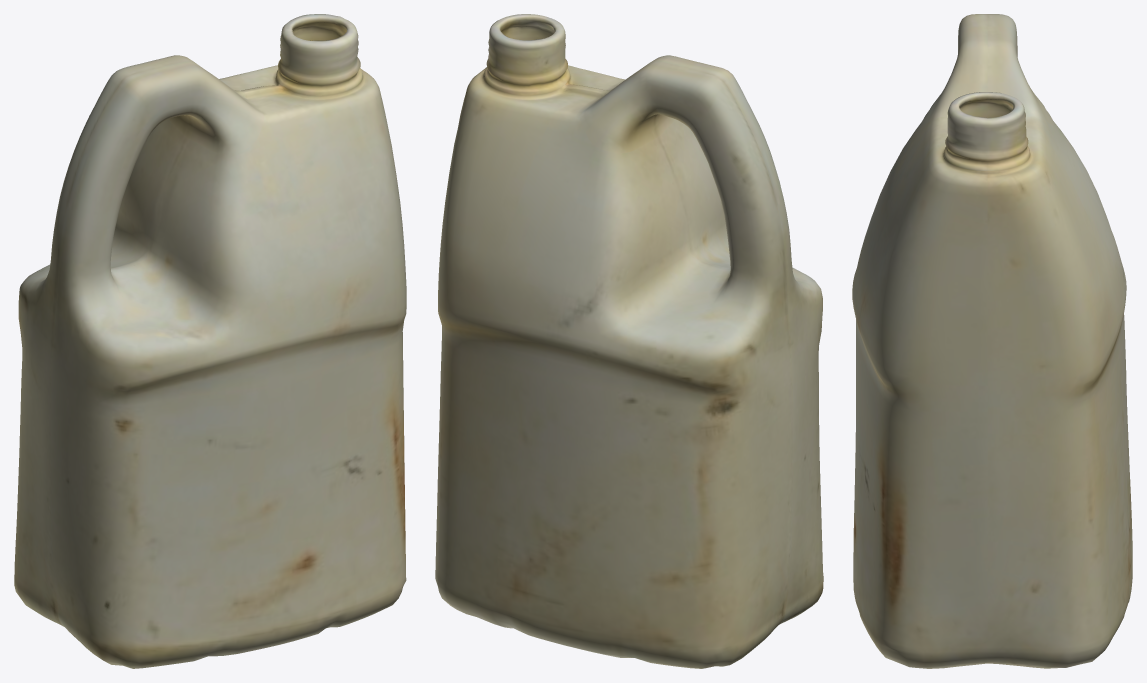
The model's file is plastic_bottle_gallon.glb.
The picture shows the model from 3 angles, left to right: view 1: azimuth 30°, elevation 25°; view 2: azimuth 150°, elevation 25°; view 3: azimuth 270°, elevation 25°; orthographic projection.
Visible parts, largest first — view 1: plastic_bottle_gallon; view 2: plastic_bottle_gallon; view 3: plastic_bottle_gallon.
Boxes of the visible parts, box(x1,y1,x2,y2) form: plastic_bottle_gallon: box(14, 14, 406, 668); plastic_bottle_gallon: box(435, 14, 823, 668); plastic_bottle_gallon: box(852, 14, 1132, 668).
Bounding box in the file's own units: 0.1663 × 0.2745 × 0.1264.
1 material, 1 textured.
